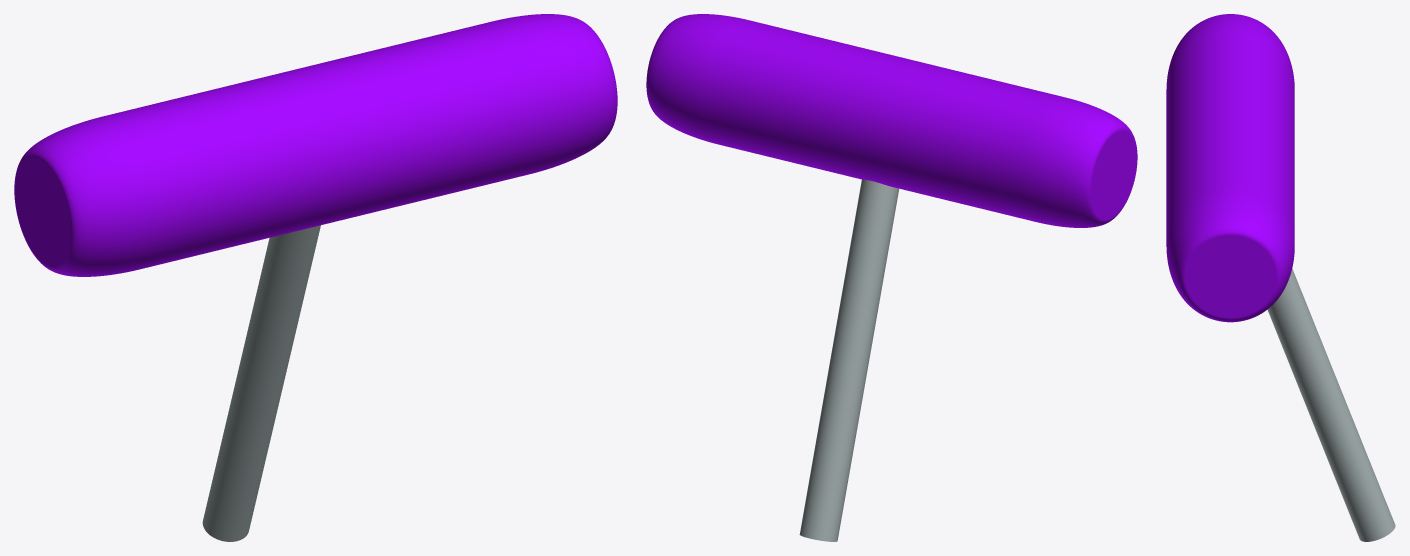
Rendered from Lever_Purpple.glb.
3 renders of one model, left to right at view 1: azimuth 30°, elevation 25°; view 2: azimuth 150°, elevation 25°; view 3: azimuth 270°, elevation 25°, orthographic. The views are drawn at different scales.
Parts seen in each view (by area): view 1: Lever Top, Lever Body; view 2: Lever Top, Lever Body; view 3: Lever Top, Lever Body.
Part boxes in pixels (x1,y1,x2,y2): Lever Top: [14, 14, 617, 276]; Lever Body: [202, 225, 320, 541]; Lever Top: [646, 14, 1137, 227]; Lever Body: [799, 179, 899, 541]; Lever Top: [1166, 14, 1294, 322]; Lever Body: [1267, 268, 1395, 541].
Size of the model in its own units: 0.2 by 0.1839 by 0.0892.
